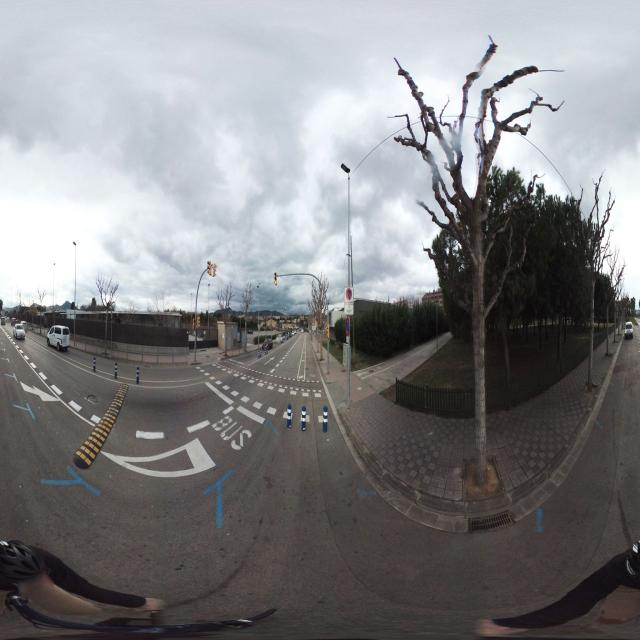forb_stopping: (346, 288, 352, 301)
forb_waiting: (345, 316, 350, 337)
